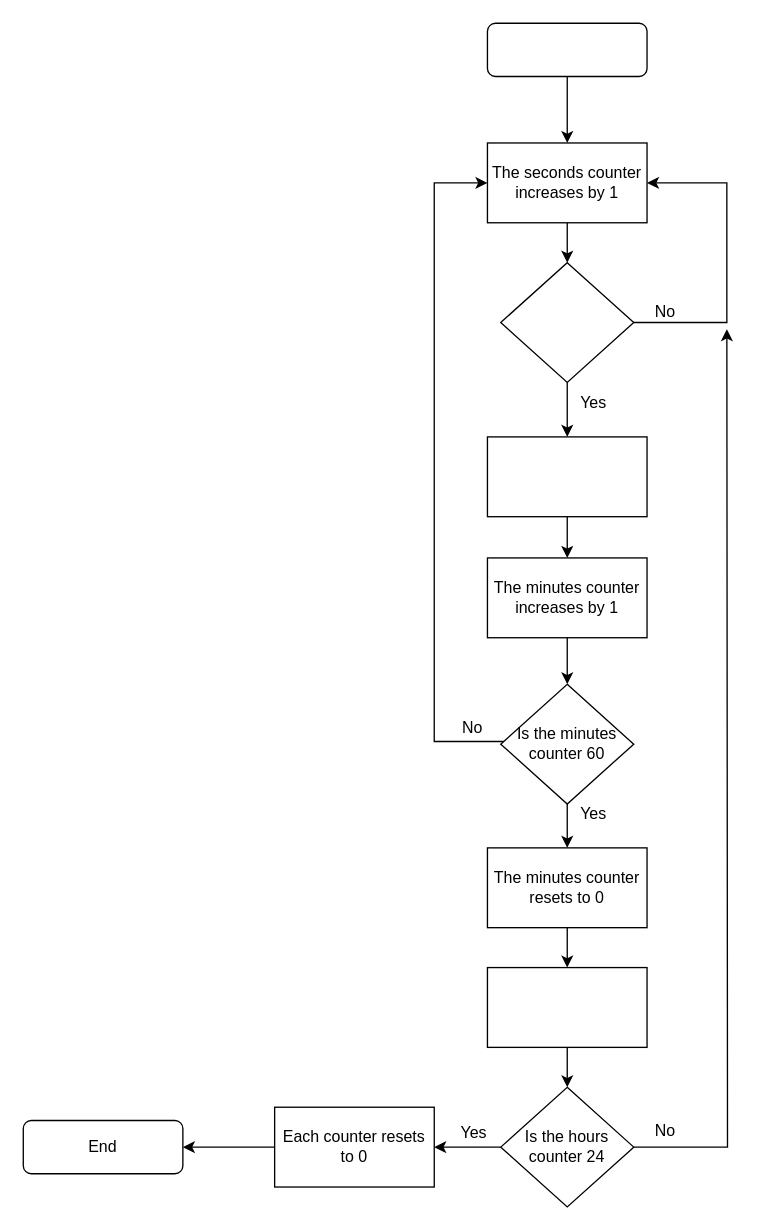
Image size: 762x1230. Some labels were removed from this diagram. The centre of each missing label's shape, as x and y in pixels:
Is the seconds counter 60: the point at 566,321
Start: the point at 566,49
The hours counter increases by 1: the point at 566,1006
The seconds counter resets to 0: the point at 566,476
